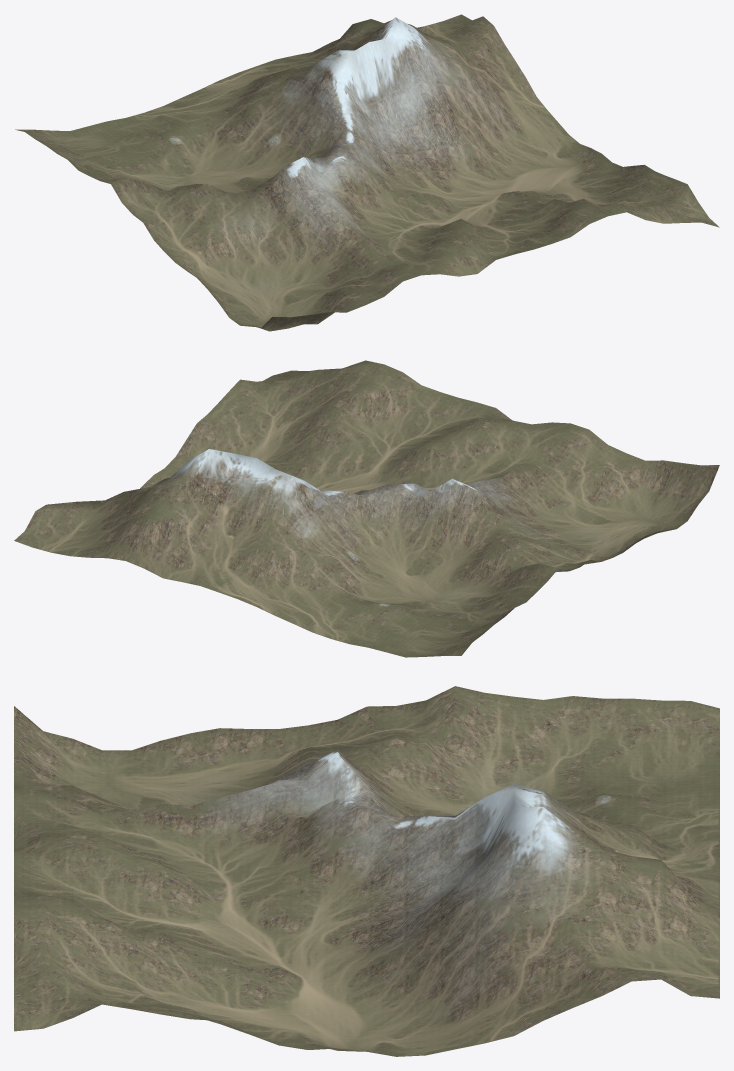
Rendered from SnowTerrain.fbx.
3 renders of one model, top to bottom at view 1: azimuth 30°, elevation 25°; view 2: azimuth 150°, elevation 25°; view 3: azimuth 270°, elevation 25°, orthographic. The views are drawn at different scales.
Parts seen in each view (by area): view 1: SnowTerrain_1; view 2: SnowTerrain_1; view 3: SnowTerrain_1.
Part boxes in pixels (x1=…): SnowTerrain_1: x1=15, y1=14, x2=719, y2=331; SnowTerrain_1: x1=14, y1=360, x2=719, y2=657; SnowTerrain_1: x1=14, y1=686, x2=719, y2=1056.
Size of the model in its own units: 10000 by 2644 by 10000.
1 material, 1 textured.
